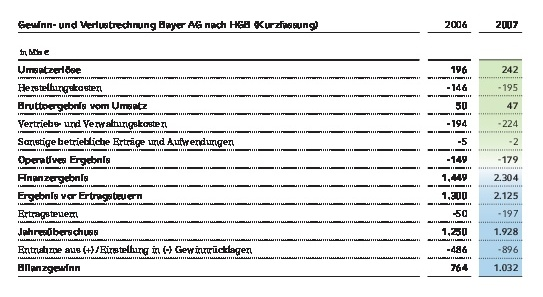table: (0, 0, 543, 297)
